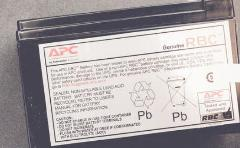electronic: (10, 14, 240, 148)
